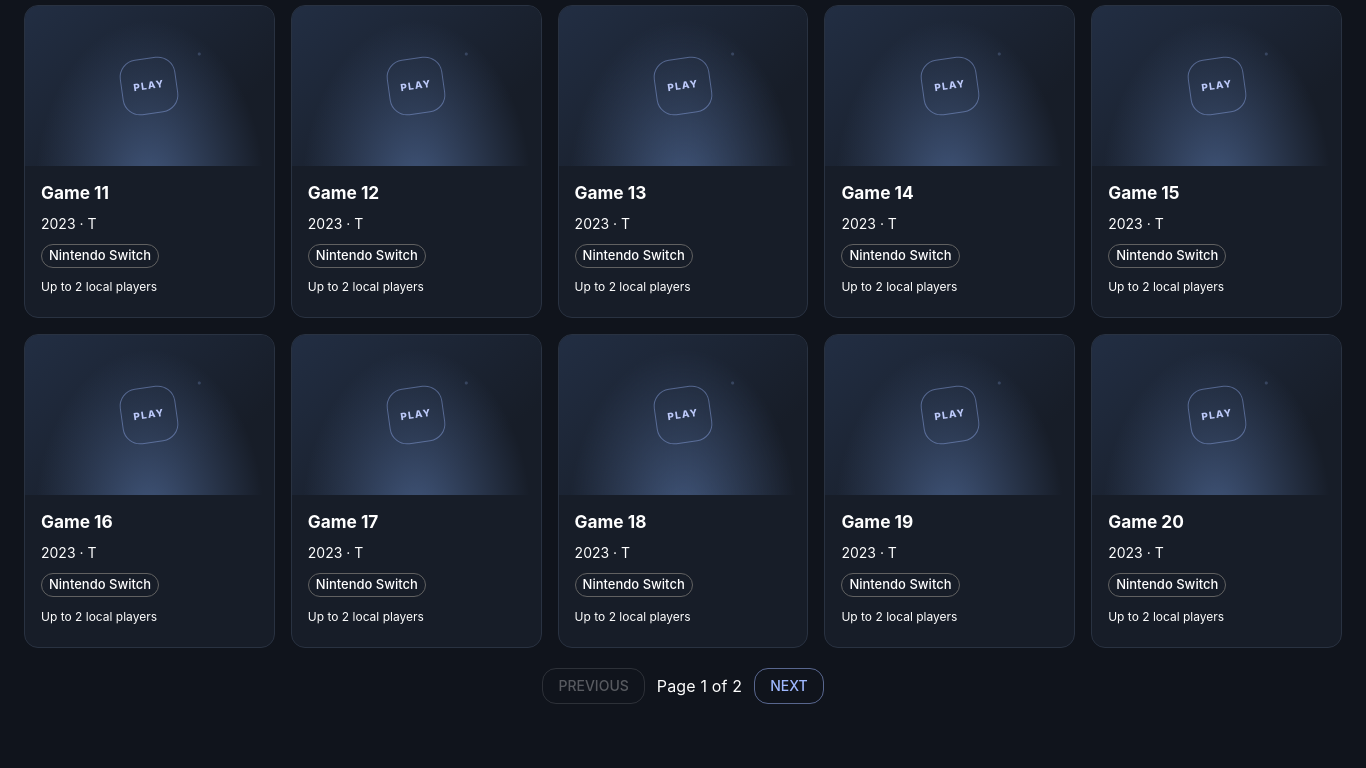
collection view › paginates results and resets to the first page after criteria changes
(page scrolled)
Expected: the text "Page 1 of 2" is shown, [657,674,742,698]
Click the button "Next". click: (789, 686)
box: [754,668,824,704]
(page scrolled)
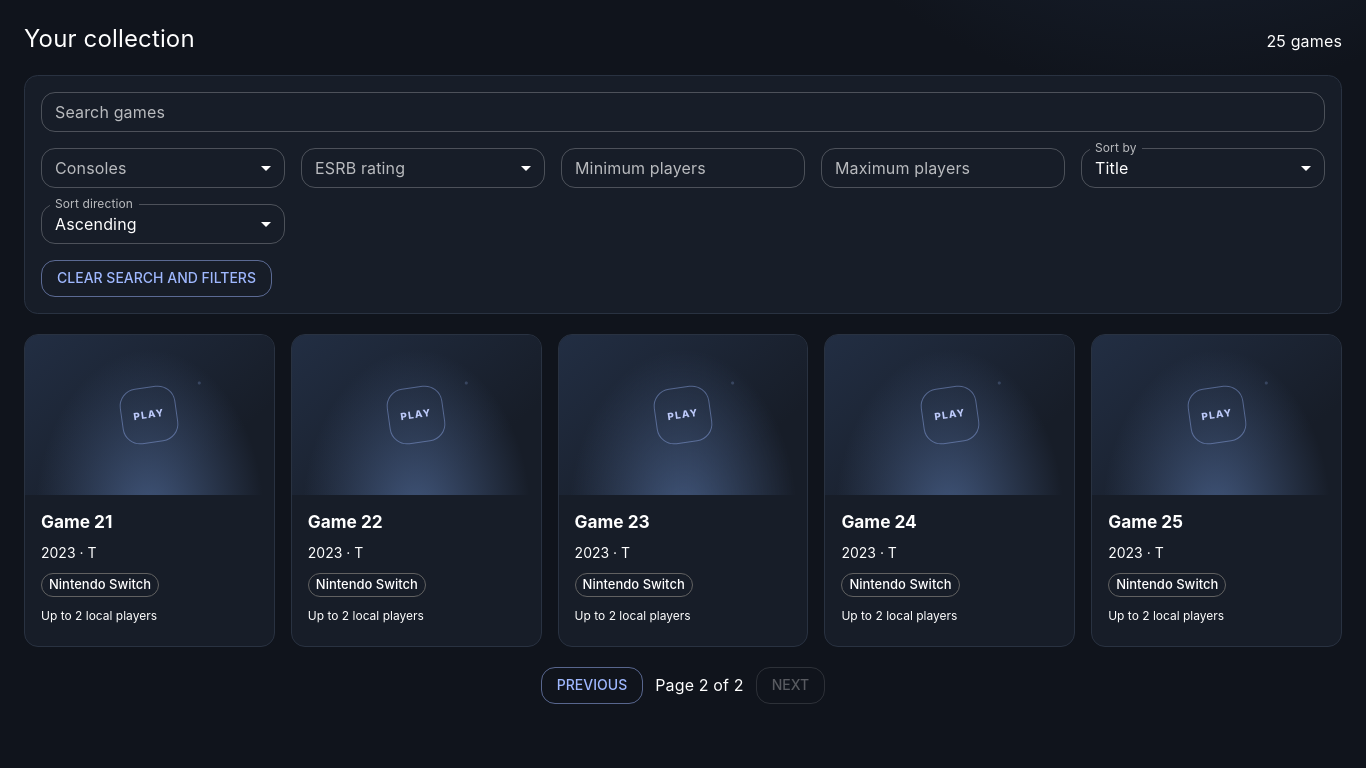
Expected: the text "Page 2 of 2" is shown, [655,673,744,697]
Expected: the button with aria-label "View details for Game 21" is shown, [25,335,274,646]
Type "25" into the search field labelled "Search games". click: (683, 112)
box: [41,92,1325,132]
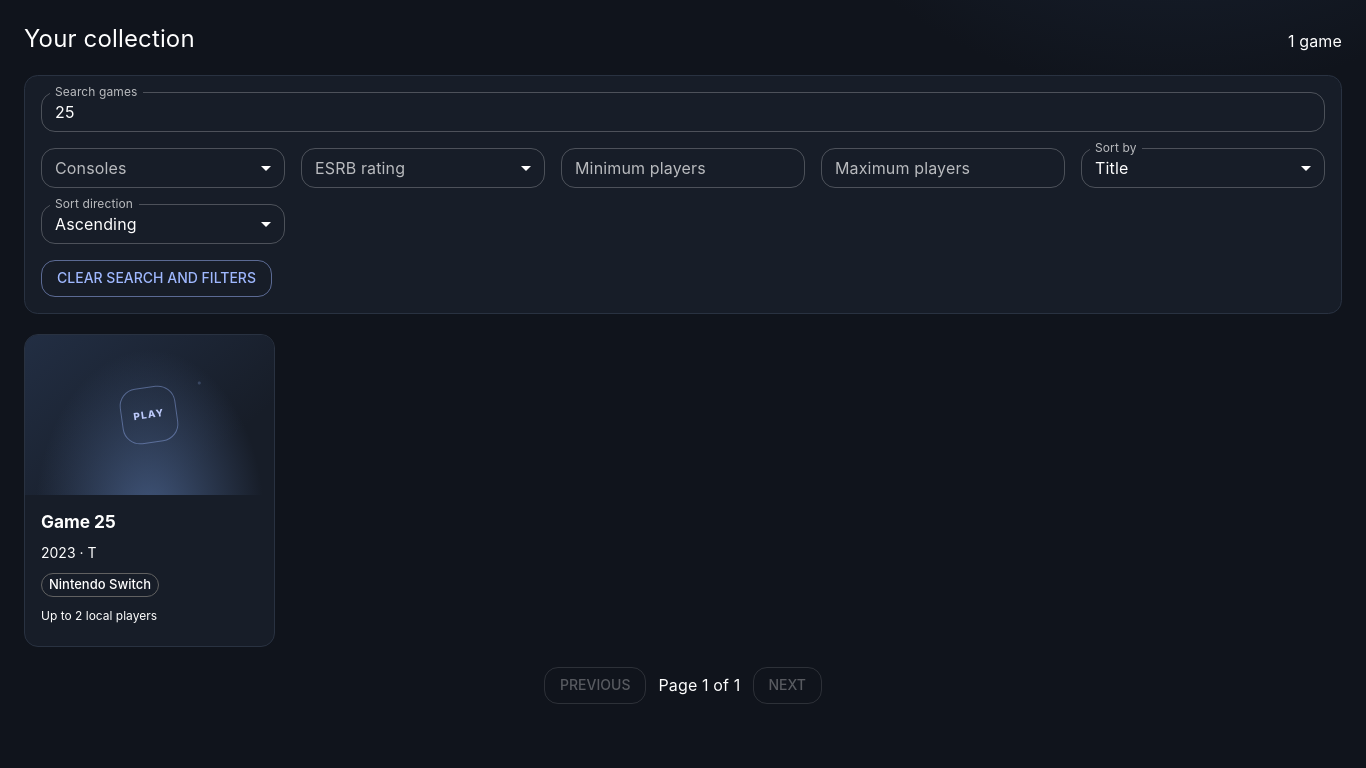
Expected: the button with aria-label "View details for Game 25" is shown, [25,335,274,646]
Expected: the text "Page 1 of 1" is shown, [658,673,740,697]
